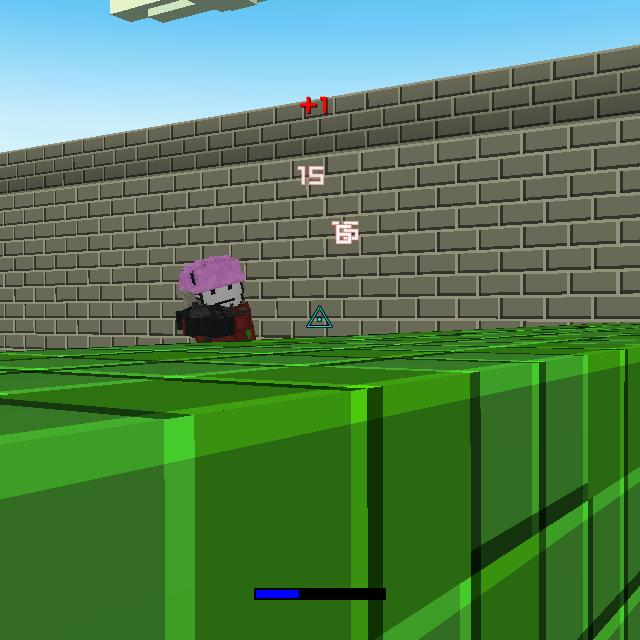enemy: (174, 251, 260, 345)
